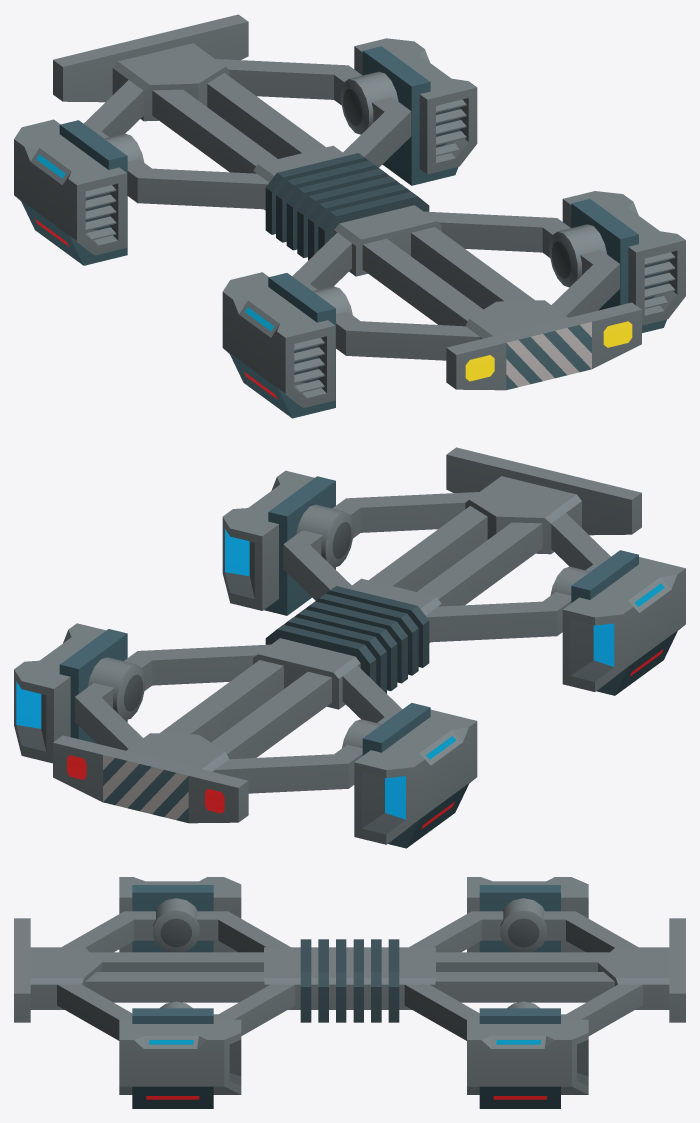
Rendered from Cargo_drone_002.glb.
3 views of the same model, one above another, from view 1: azimuth 30°, elevation 25°; view 2: azimuth 150°, elevation 25°; view 3: azimuth 270°, elevation 25° (orthographic). The views are drawn at different scales.
Visible parts, largest first — view 1: Cargo_drone_002, Drone_Delivery_04_EngineFR_01.002; view 2: Cargo_drone_002, Drone_Delivery_04_EngineFR_01.002; view 3: Cargo_drone_002, Drone_Delivery_04_EngineFR_01.002.
Boxes of the visible parts, x1,y1,x2,y2 form: Cargo_drone_002: [14, 14, 685, 390]; Drone_Delivery_04_EngineFR_01.002: [222, 272, 352, 418]; Cargo_drone_002: [14, 447, 641, 848]; Drone_Delivery_04_EngineFR_01.002: [550, 550, 685, 695]; Cargo_drone_002: [14, 877, 685, 1108]; Drone_Delivery_04_EngineFR_01.002: [119, 877, 241, 952].
Bounding box in the file's own units: 1.65 × 0.3911 × 2.88.
Materials: 2 (2 with a texture image).
